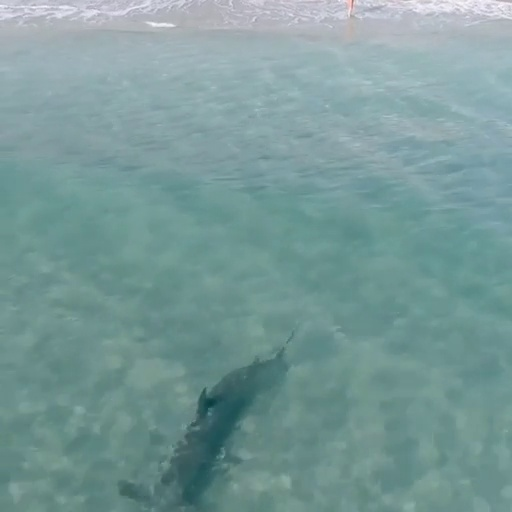shark: (117, 323, 302, 512)
